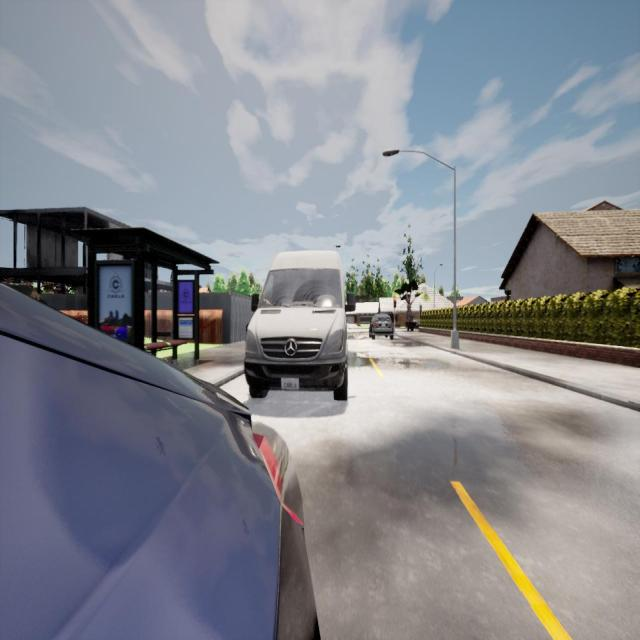Vehicle: (0, 286, 320, 640), (242, 250, 355, 401), (368, 314, 394, 339)
traffic_light: (393, 296, 397, 308)
